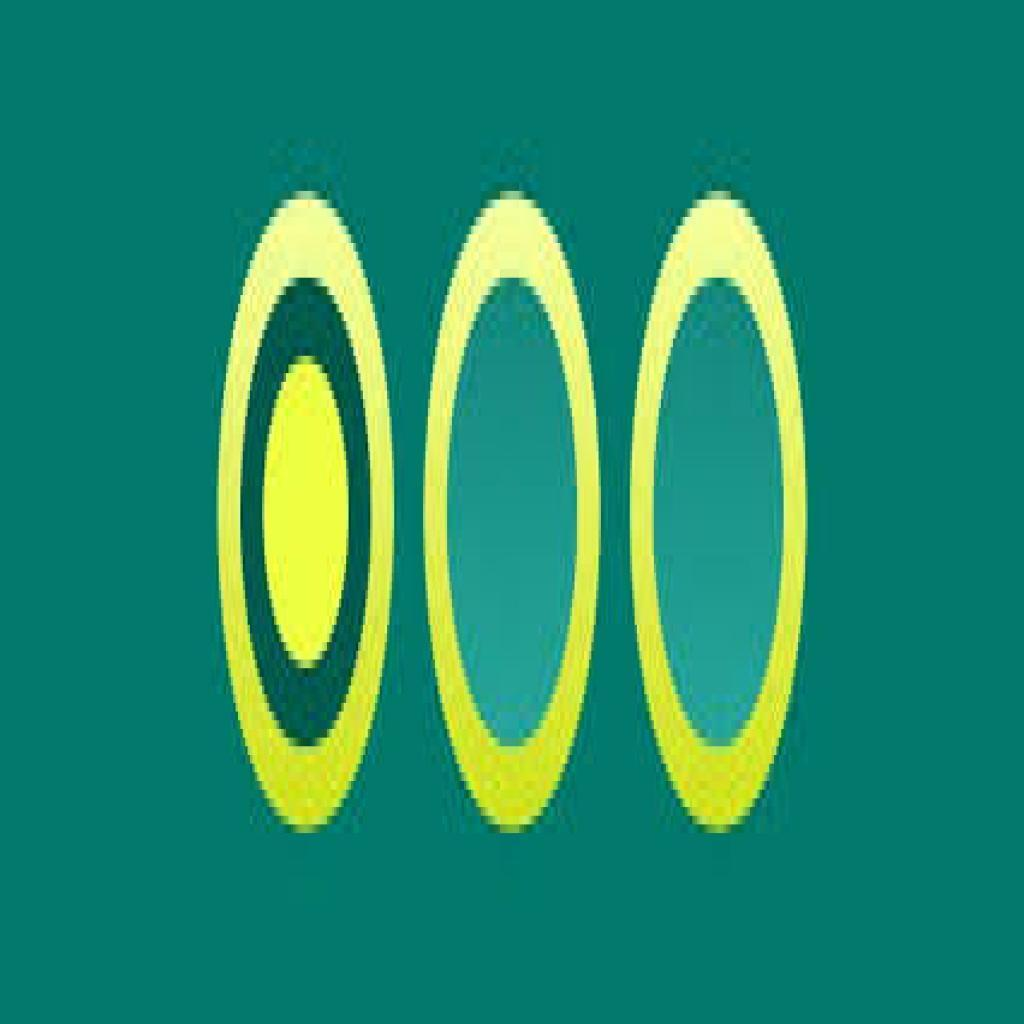radio: (627, 188, 810, 837), (422, 188, 602, 838), (217, 189, 397, 838)
